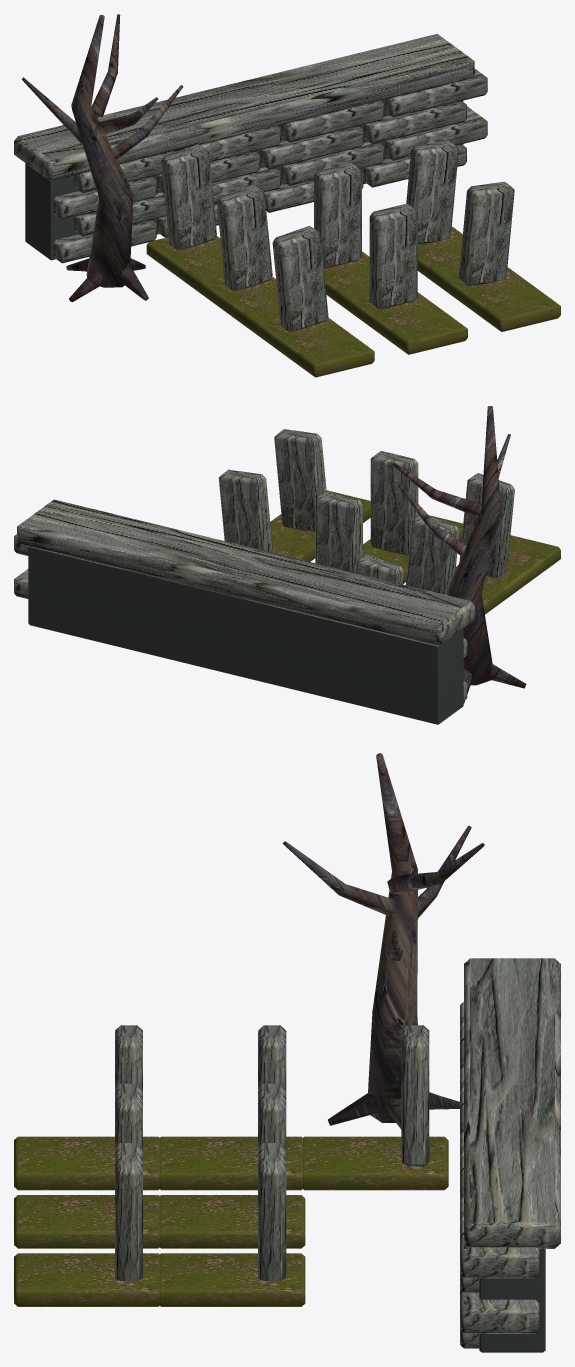
File: env-site-graveyard-mobile.glb
The picture shows the model from 3 angles, top to bottom: view 1: azimuth 30°, elevation 25°; view 2: azimuth 150°, elevation 25°; view 3: azimuth 270°, elevation 25°; orthographic projection. The views are drawn at different scales.
Visible parts, largest first — view 1: site graveyard · authored textured miniature; view 2: site graveyard · authored textured miniature; view 3: site graveyard · authored textured miniature.
Part boxes in pixels (x1,y1,x2,y2): site graveyard · authored textured miniature: (14, 14, 560, 377); site graveyard · authored textured miniature: (14, 406, 560, 724); site graveyard · authored textured miniature: (14, 753, 560, 1352).
Bounding box in the file's own units: 1.34 × 0.7681 × 1.07.
4 materials, 3 textured.
